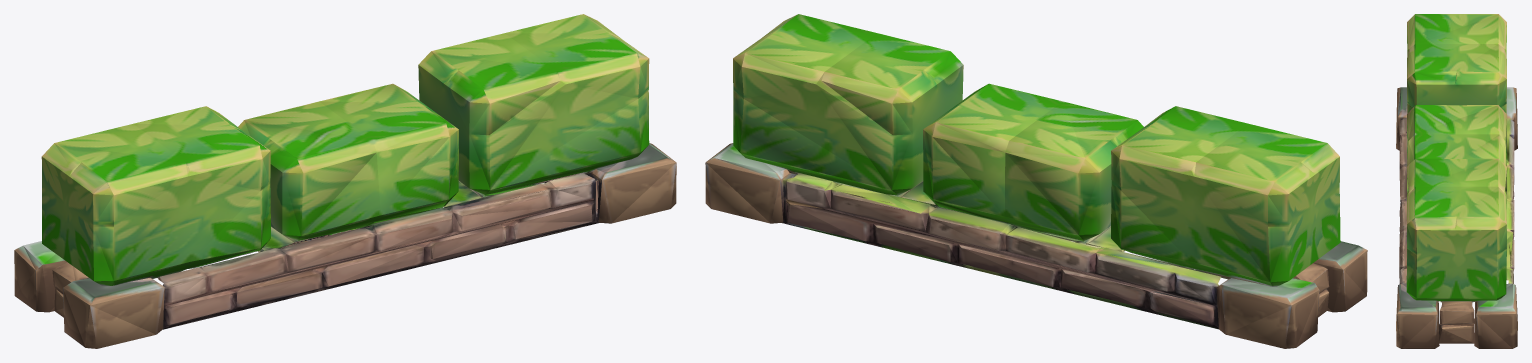
The model's file is hedge.glb.
3 views of the same model, side by side, from view 1: azimuth 30°, elevation 25°; view 2: azimuth 150°, elevation 25°; view 3: azimuth 270°, elevation 25° (orthographic). The views are drawn at different scales.
Parts seen in each view (by area): view 1: material; view 2: material; view 3: material.
Part boxes in pixels (x1,y1,x2,y2): material: (14, 14, 676, 348); material: (705, 14, 1367, 348); material: (1396, 14, 1517, 348).
Size of the model in its own units: 32 by 7.99 by 7.25.
1 material, 1 textured.
